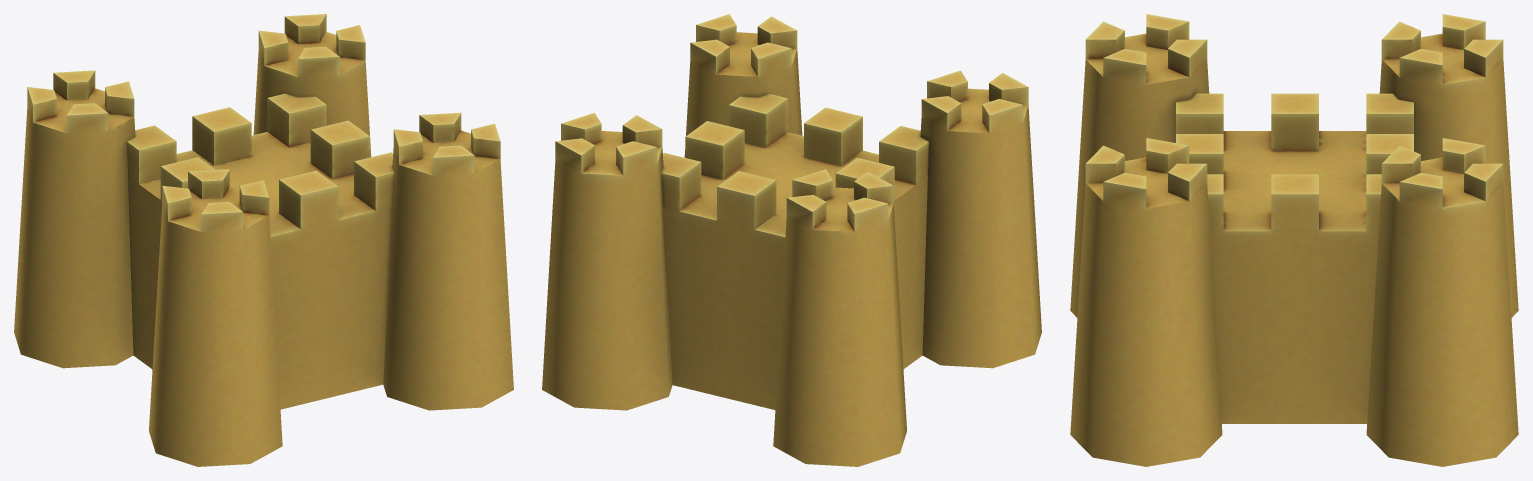
File: sand_castle.fbx
The picture shows the model from 3 angles, left to right: view 1: azimuth 30°, elevation 25°; view 2: azimuth 150°, elevation 25°; view 3: azimuth 270°, elevation 25°; orthographic projection. The views are drawn at different scales.
Parts seen in each view (by area): view 1: sand_castle_mesh; view 2: sand_castle_mesh; view 3: sand_castle_mesh.
Part boxes in pixels (x1,y1,x2,y2): sand_castle_mesh: (14,14,513,466); sand_castle_mesh: (542,14,1041,466); sand_castle_mesh: (1070,14,1518,466).
Bounding box in the file's own units: 0.615 × 0.4132 × 0.6191.
